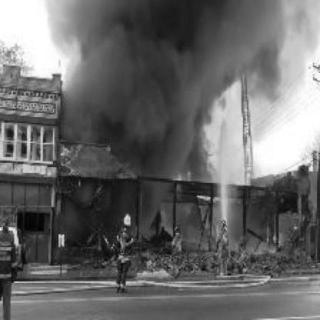Smoke: (42, 0, 254, 253)
